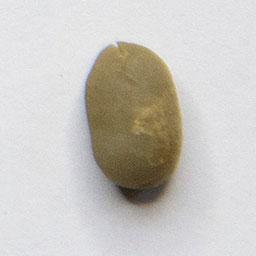peaberry: (81, 37, 188, 194)
